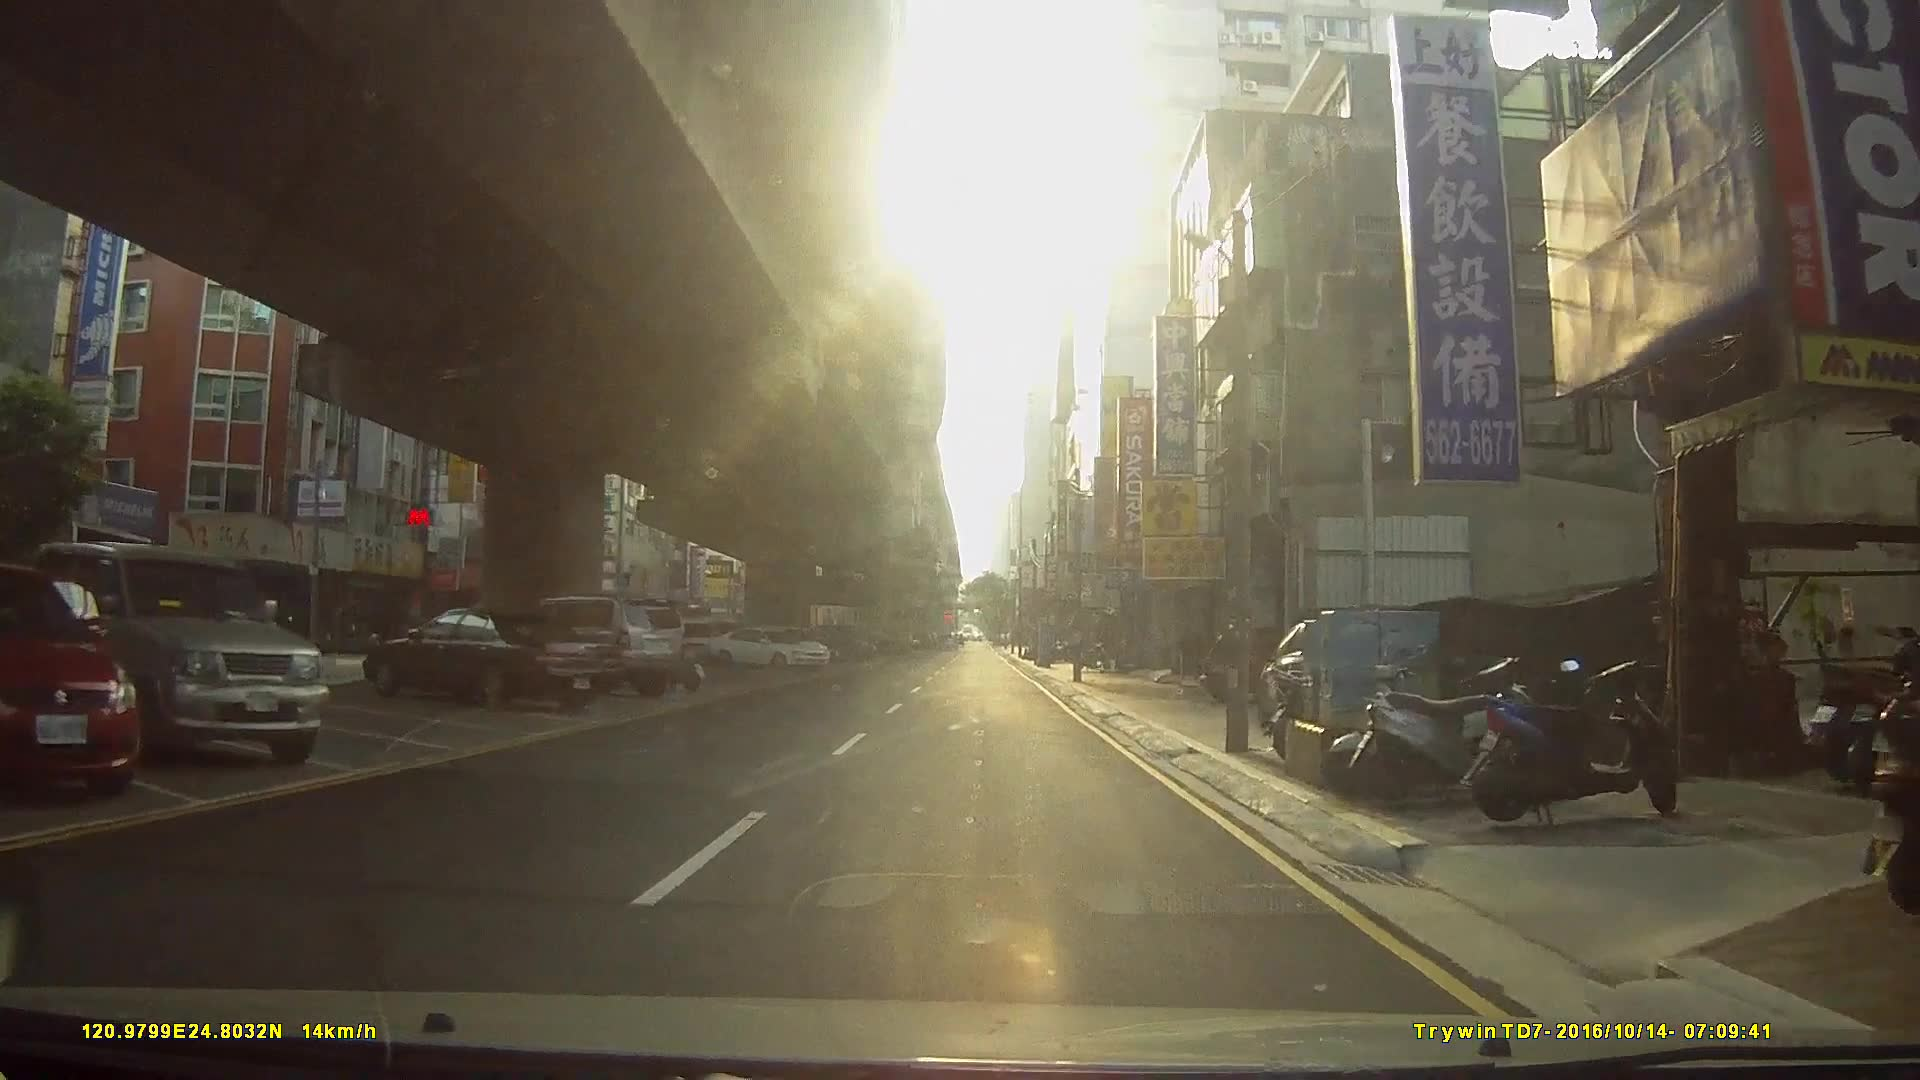vehicle: (22, 538, 328, 767), (0, 560, 136, 796), (360, 605, 626, 711), (509, 593, 687, 699), (705, 626, 835, 673)
